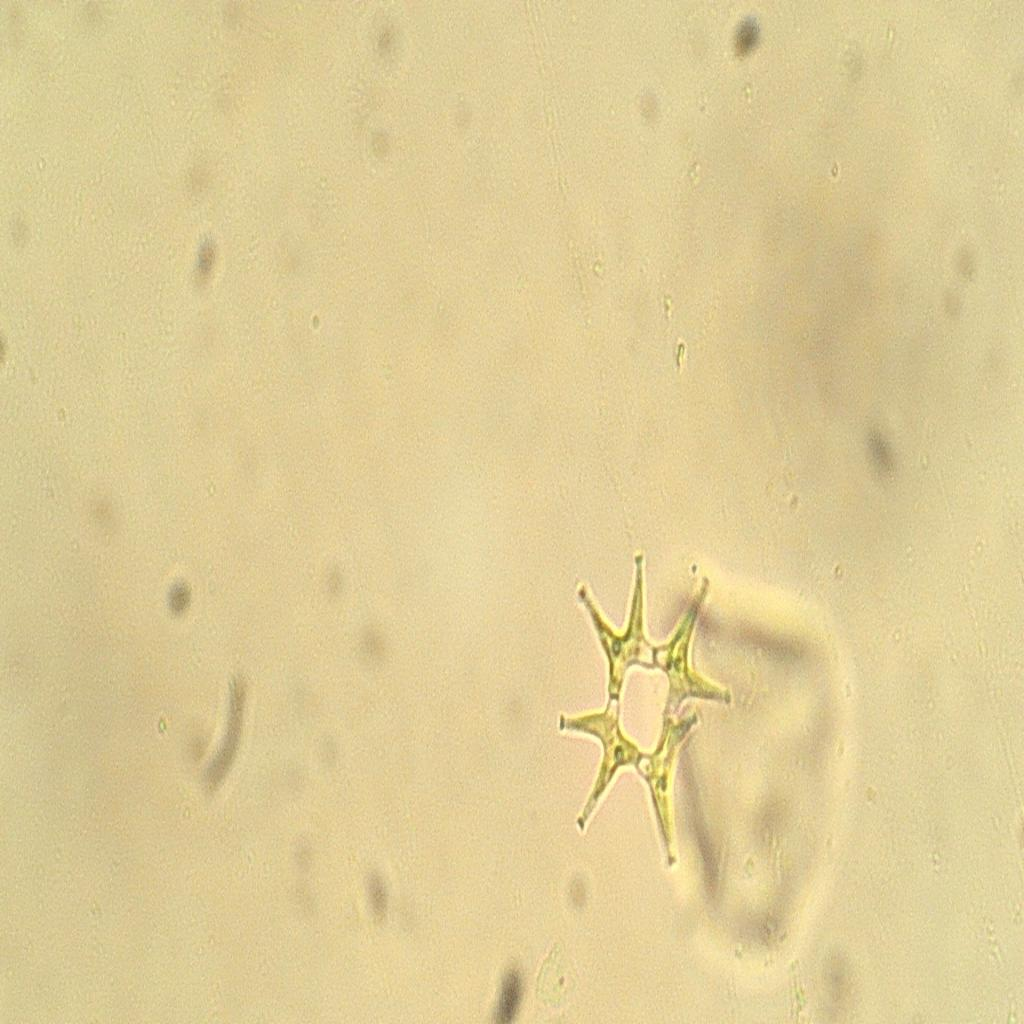Pediastrum_CO: (536, 532, 740, 891)
